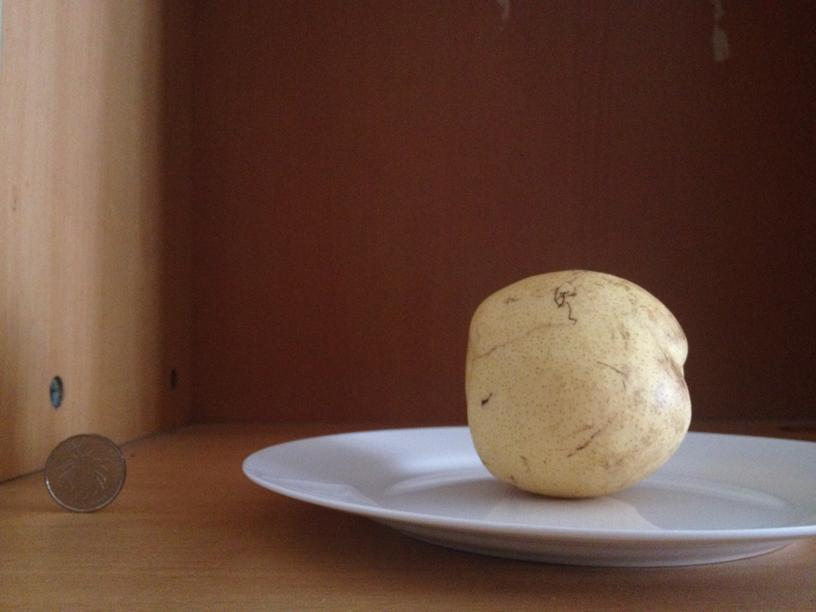coin: (43, 434, 127, 513)
pear: (455, 272, 694, 498)
